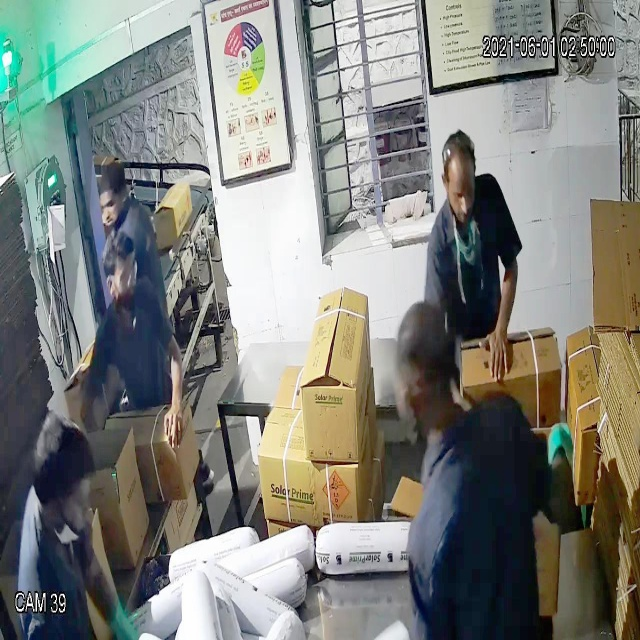Gafas: (102, 260, 139, 295)
Sin_gafas: (440, 175, 477, 211)
